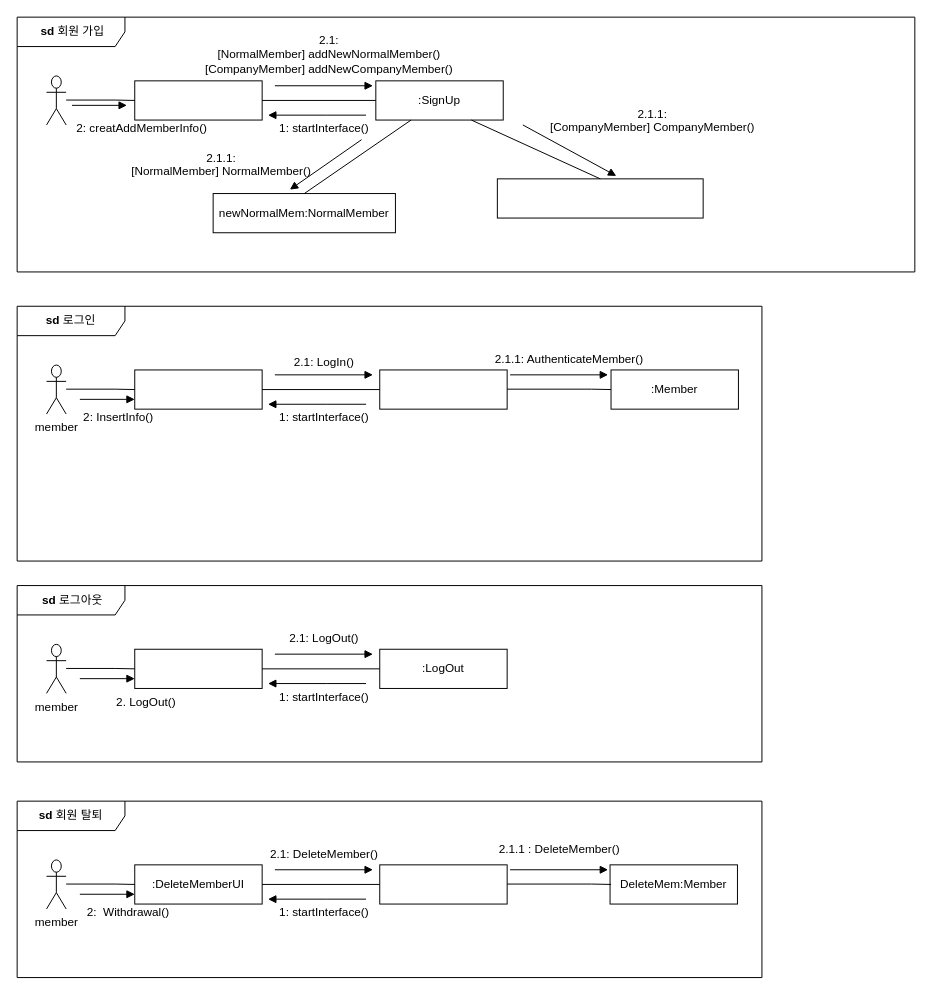
Image size: 932x995. Some labels were removed from this diagram. Each missing label, with the centre of its shape:
":DeleteMember" belongs at point (443, 884).
":LogIn" belongs at point (443, 389).
":LogInUI" belongs at point (198, 389).
":LogOutUI" belongs at point (198, 668).
":SignUpUI" belongs at point (198, 100).
"guest" belongs at point (56, 100).
"newCompanyMem:CompanyMember" belongs at point (599, 198).
